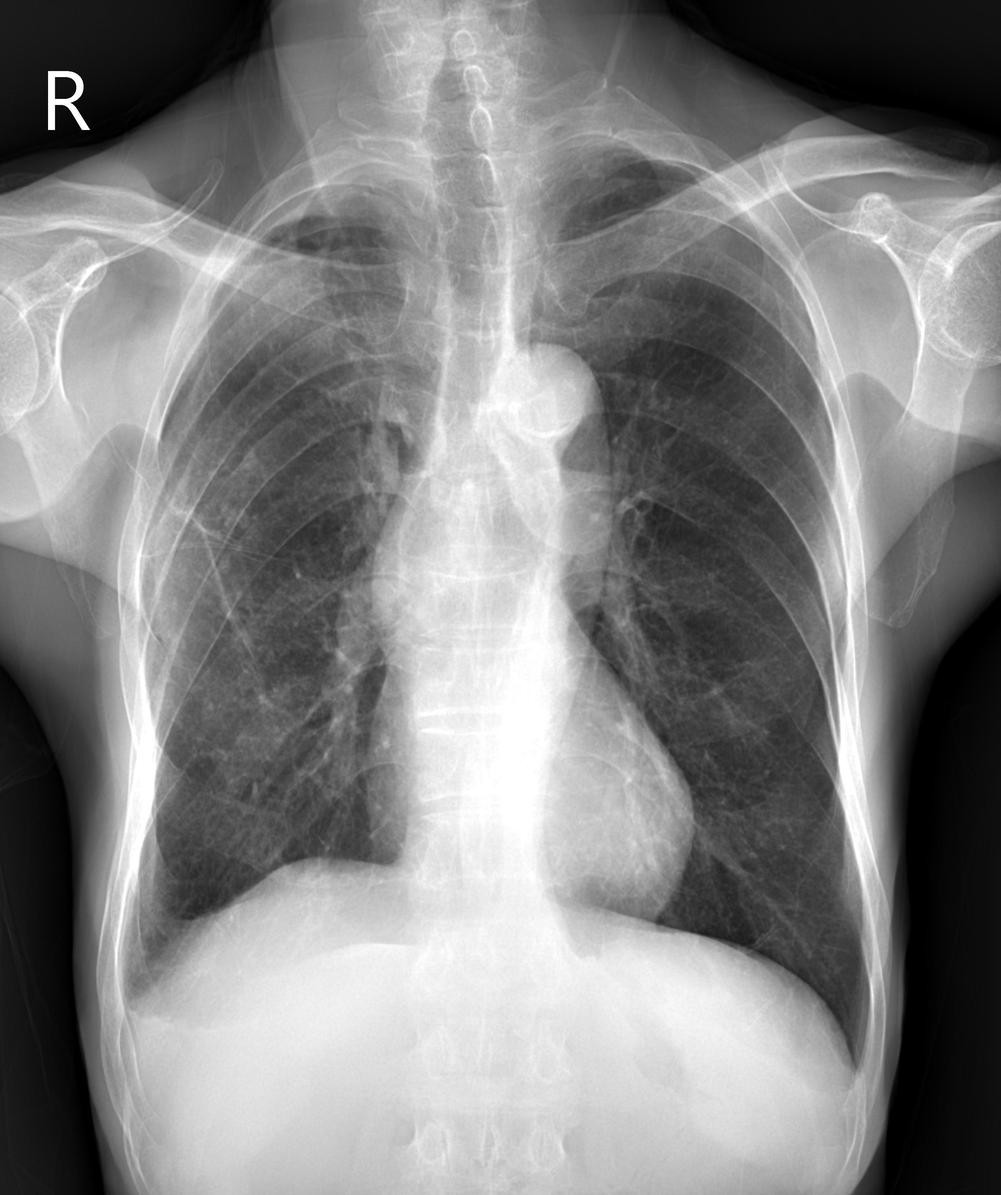Pleural thickening: (102, 848, 222, 1021), (659, 145, 764, 227), (249, 174, 330, 227)
Pulmonary fibrosis: (147, 461, 274, 704), (222, 229, 334, 344)
